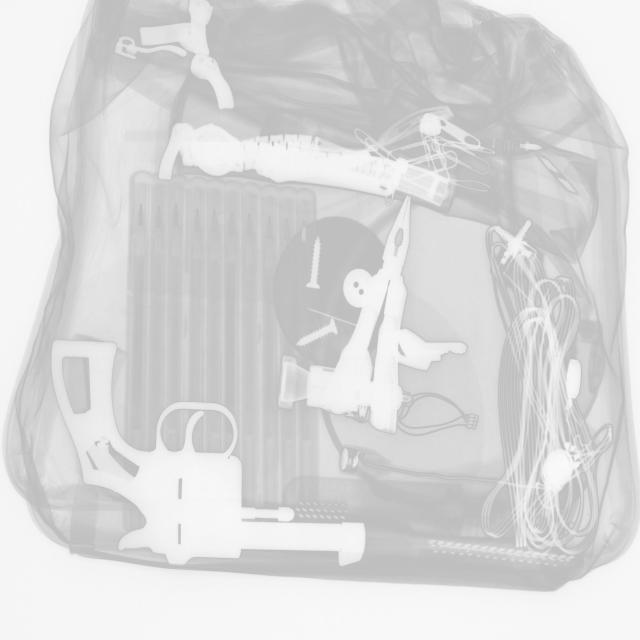pistol: (52, 339, 368, 565)
